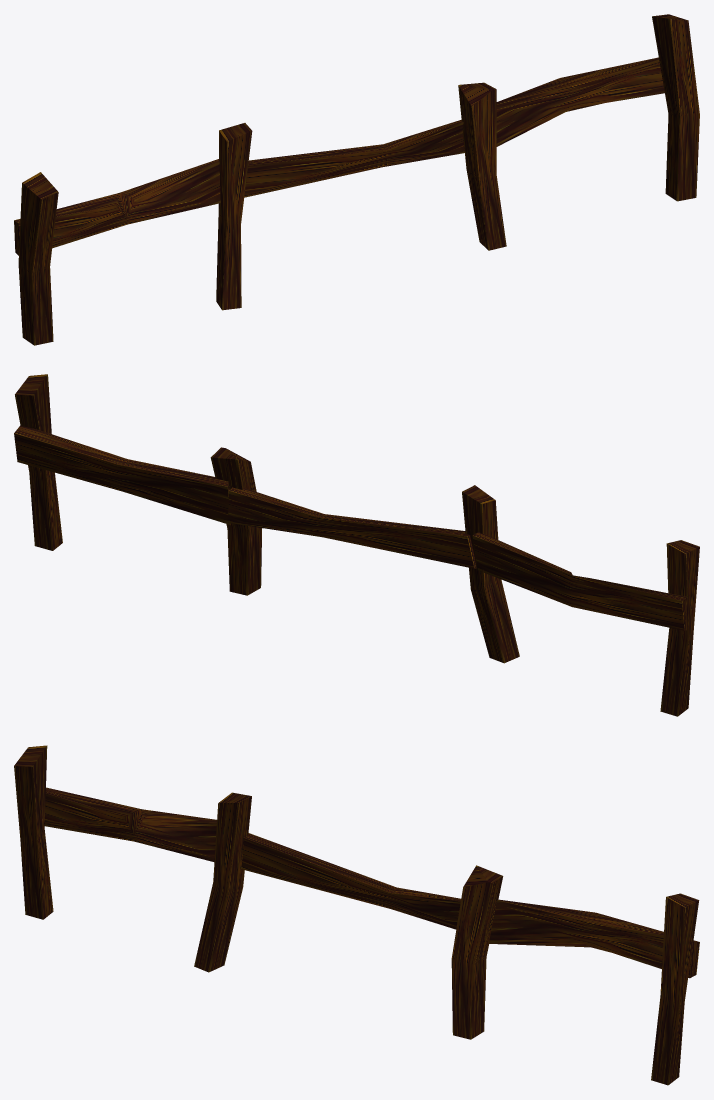
The model's file is Railing03.glb.
3 renders of one model, top to bottom at view 1: azimuth 30°, elevation 25°; view 2: azimuth 150°, elevation 25°; view 3: azimuth 330°, elevation 25°, orthographic.
Visible parts, largest first — view 1: Railing03; view 2: Railing03; view 3: Railing03.
Part boxes in pixels (x1=…): Railing03: x1=14, y1=14, x2=699, y2=345; Railing03: x1=14, y1=374, x2=699, y2=716; Railing03: x1=14, y1=745, x2=699, y2=1085.
Bounding box in the file's own units: 4.49 × 1.12 × 0.4115.
1 material, 1 textured.
